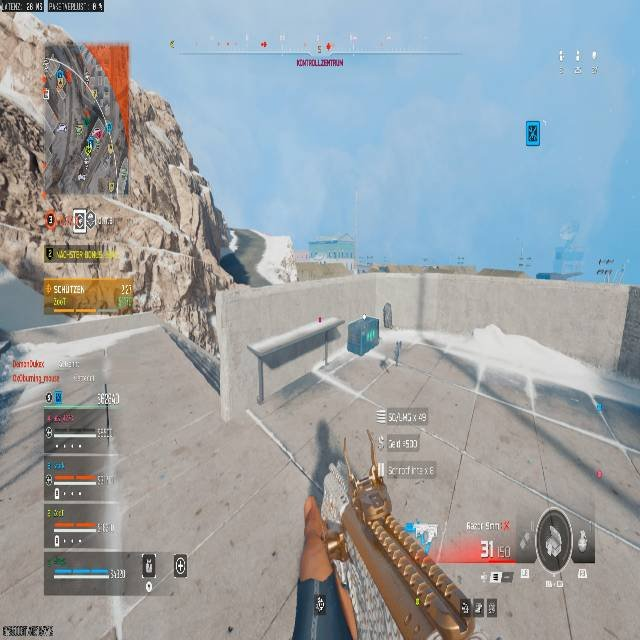player: (300, 474, 474, 639)
